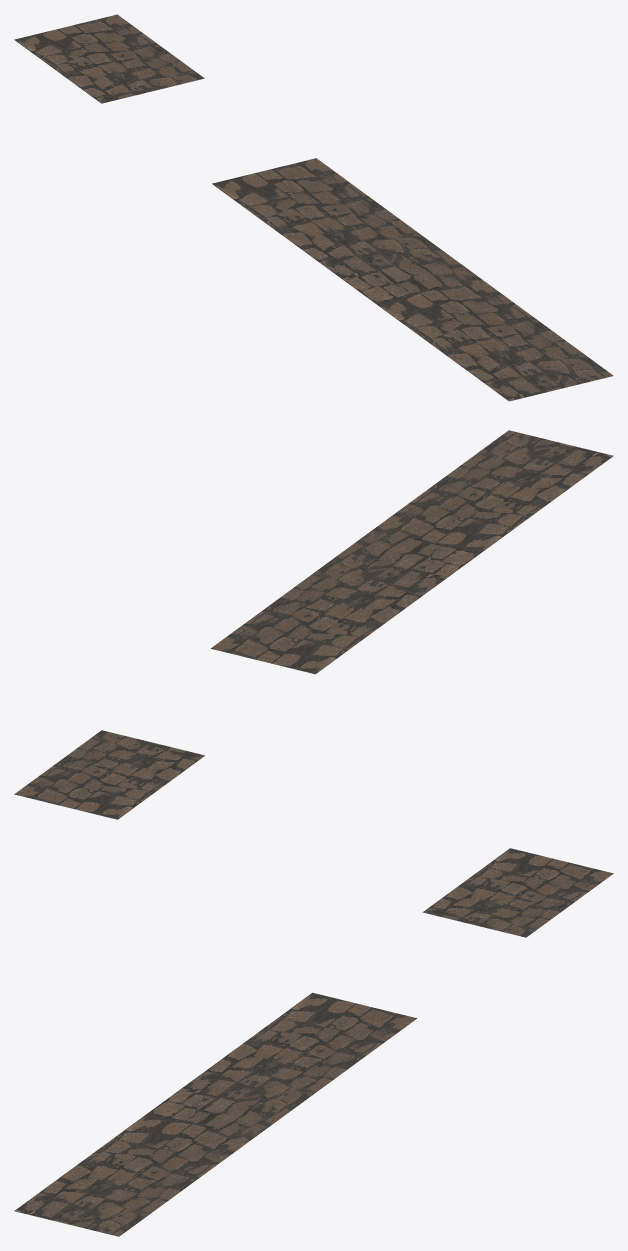
File: Dream2_Floor_Path.glb
3 renders of one model, top to bottom at view 1: azimuth 30°, elevation 25°; view 2: azimuth 150°, elevation 25°; view 3: azimuth 330°, elevation 25°, orthographic.
Visible parts, largest first — view 1: Path_Front, Path_Front.001; view 2: Path_Front, Path_Front.001; view 3: Path_Front, Path_Front.001.
Part boxes in pixels (left/top/right/bottom): Path_Front: left=212, top=158, right=613, bottom=401; Path_Front.001: left=14, top=14, right=204, bottom=103; Path_Front: left=211, top=430, right=613, bottom=674; Path_Front.001: left=14, top=730, right=204, bottom=819; Path_Front: left=14, top=992, right=416, bottom=1236; Path_Front.001: left=422, top=848, right=613, bottom=937.
Bounding box in the file's own units: 3.88 × 0.0155 × 31.63.
Materials: 2 (2 with a texture image).
